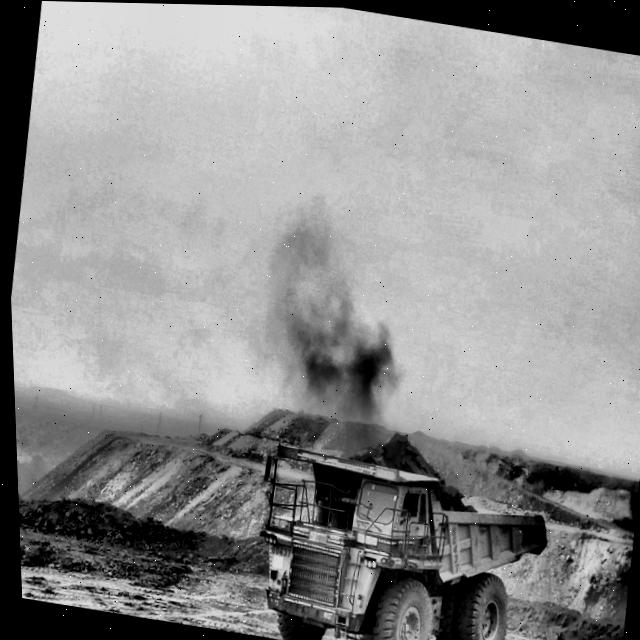dump_truck: (258, 442, 544, 640)
